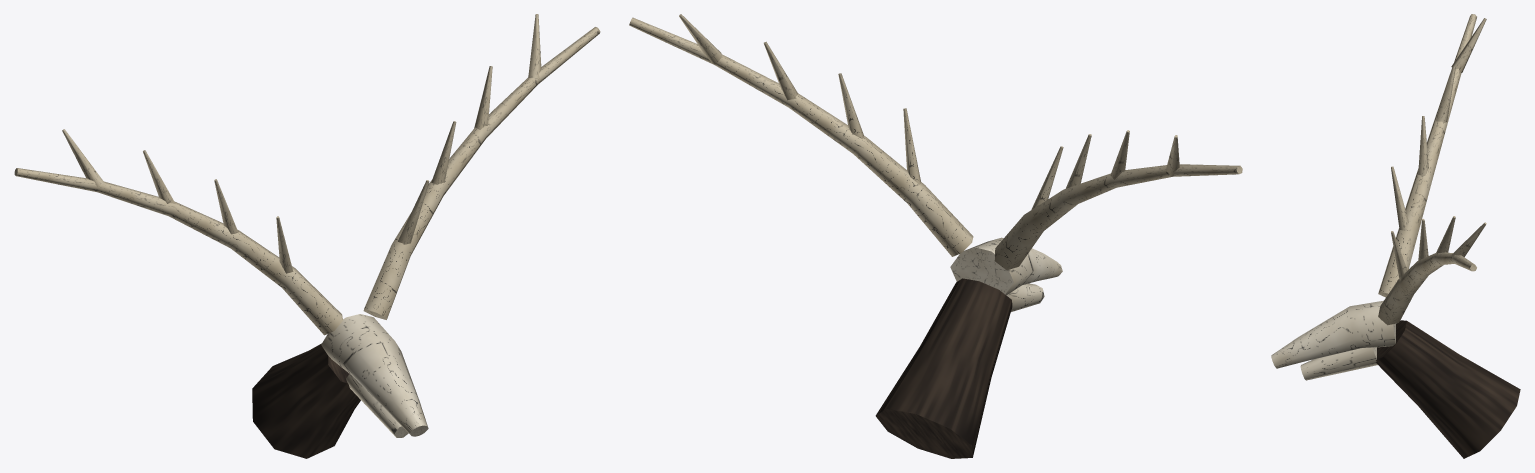
The model's file is deer_head.glb.
3 views of the same model, side by side, from view 1: azimuth 30°, elevation 25°; view 2: azimuth 150°, elevation 25°; view 3: azimuth 270°, elevation 25° (orthographic). The views are drawn at different scales.
Parts seen in each view (by area): view 1: deer_head; view 2: deer_head; view 3: deer_head.
Boxes of the visible parts, x1,y1,x2,y2 form: deer_head: (14,14,600,458); deer_head: (629,14,1242,458); deer_head: (1271,14,1520,458).
Bounding box in the file's own units: 2.49 × 1.53 × 1.04.
4 materials, 4 textured.
